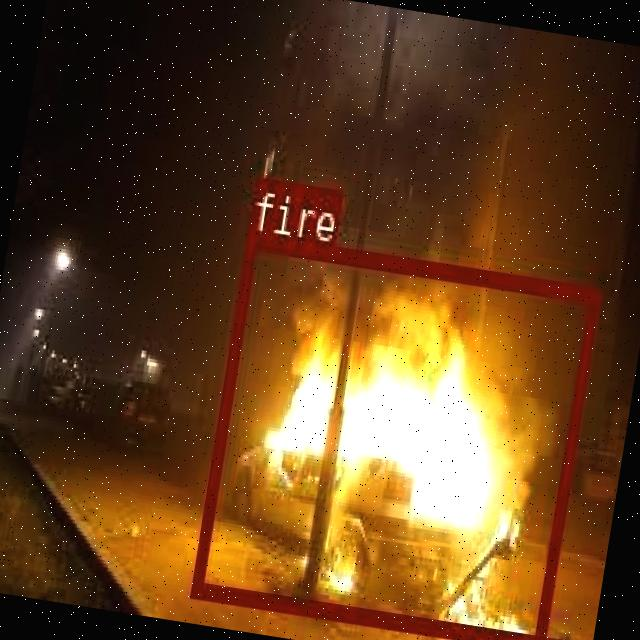fire: (190, 230, 599, 640)
